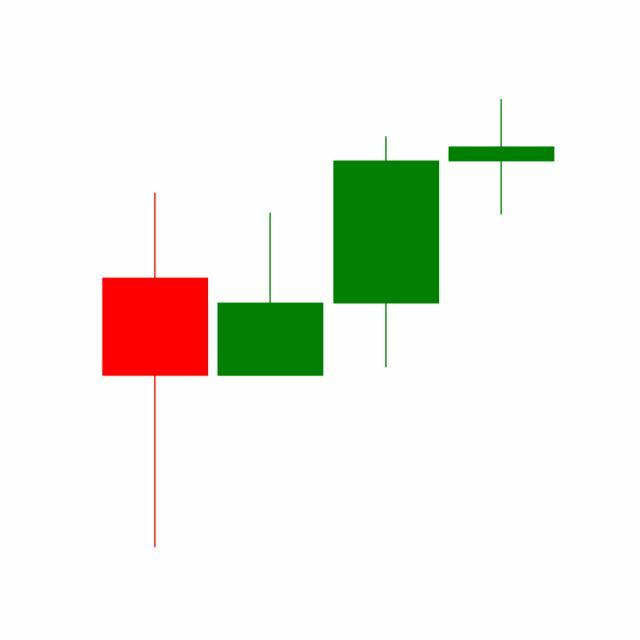Spinning Top: (444, 99, 560, 218)
